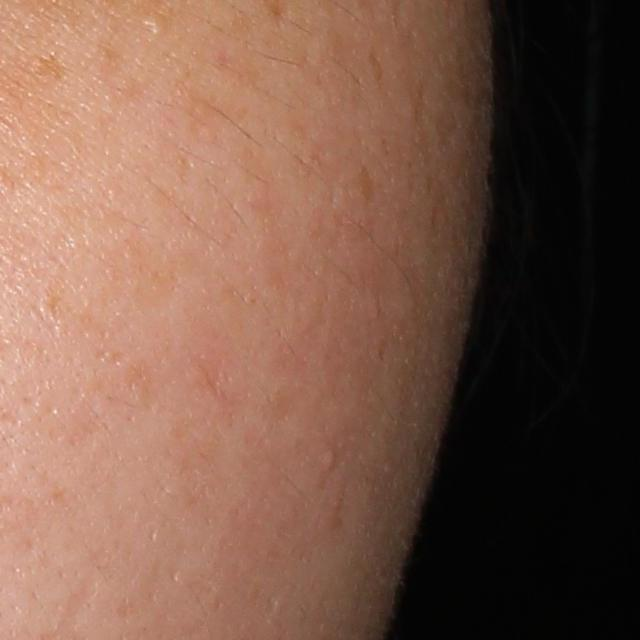comedo: (141, 16, 167, 40), (321, 448, 337, 473)
melasma: (21, 51, 74, 87)
